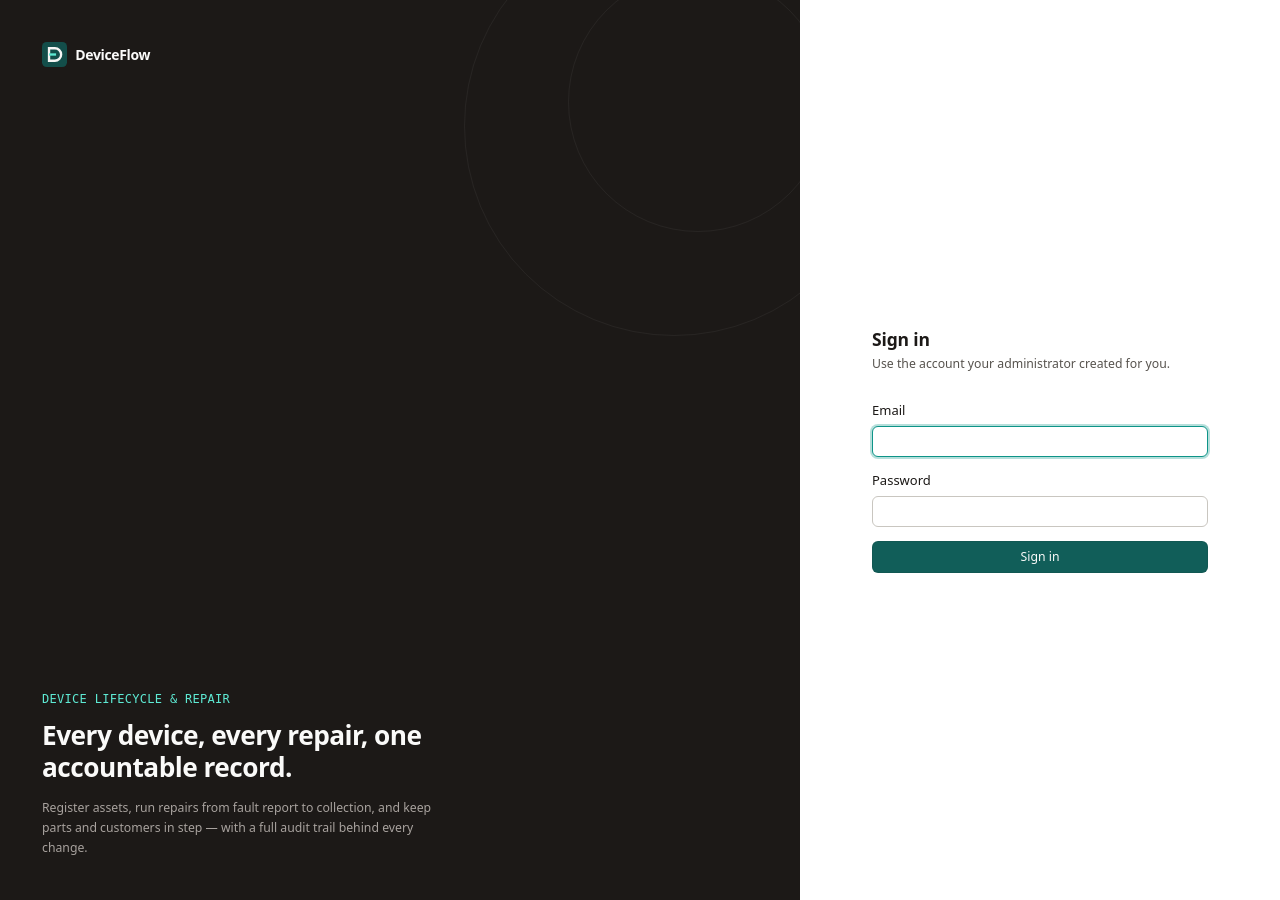
LoginPage › sends the CSRF client header and navigates on success
In the field labelled "Email": (1040, 441) [872,426,1208,457], type "a@b.test"
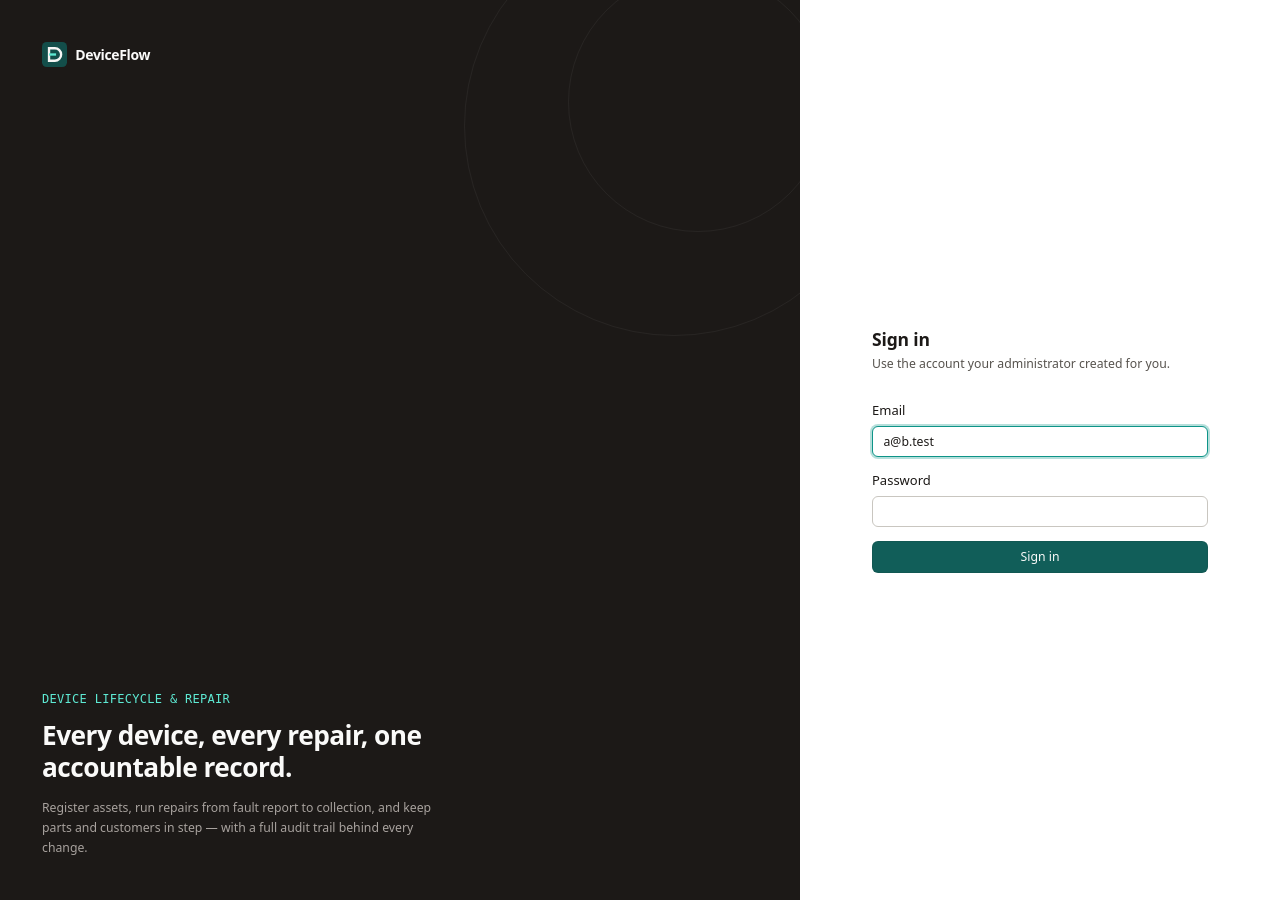
In the password field labelled "Password": (1040, 512) [872,496,1208,527], type "secret-password"
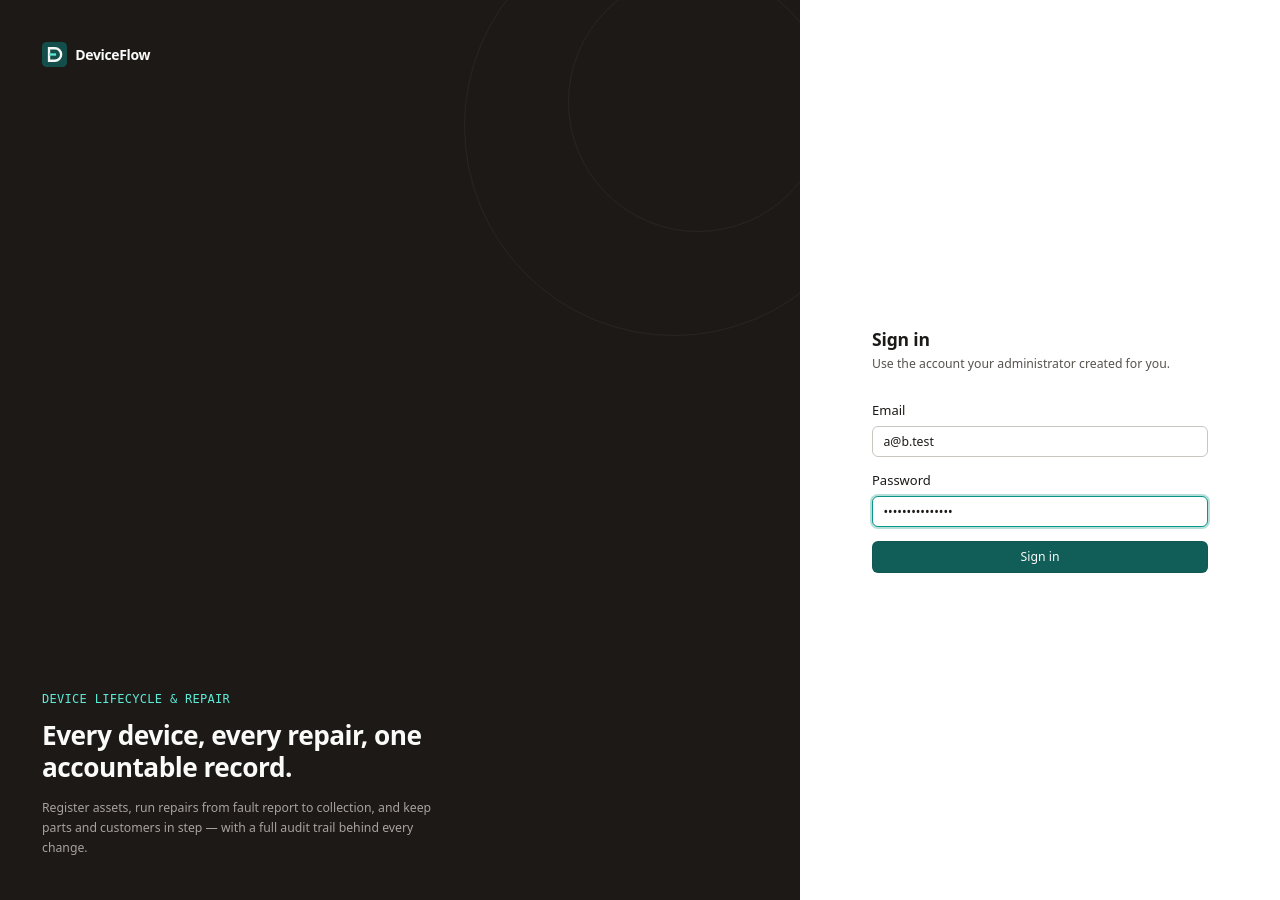
Click the button "Sign in": (1040, 557) [872,541,1208,573]
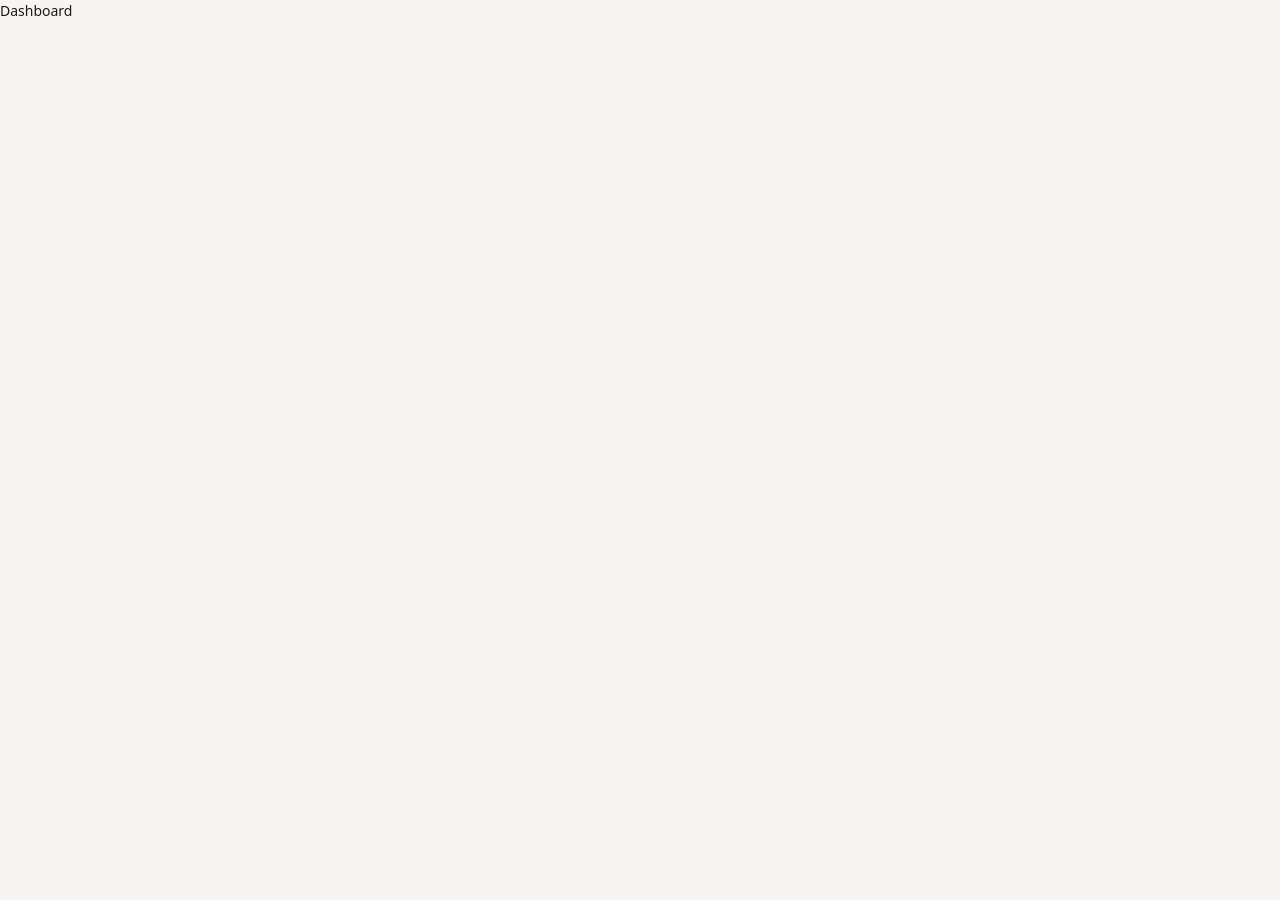
Expected: the text "Dashboard" is shown, [0,1,72,20]
